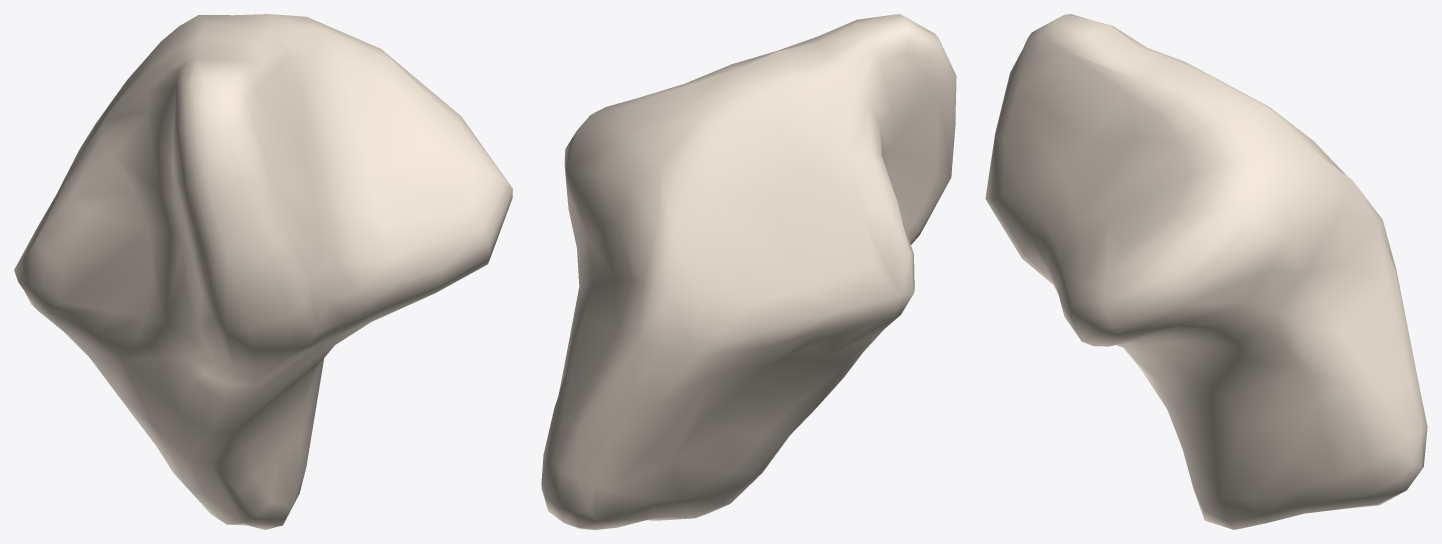
File: left_trapezium.glb
3 views of the same model, side by side, from view 1: azimuth 30°, elevation 25°; view 2: azimuth 150°, elevation 25°; view 3: azimuth 270°, elevation 25° (orthographic). The views are drawn at different scales.
Parts seen in each view (by area): view 1: Trapezium.r; view 2: Trapezium.r; view 3: Trapezium.r.
Boxes of the visible parts, left/top/right/bottom form: Trapezium.r: left=14, top=14, right=512, bottom=529; Trapezium.r: left=541, top=14, right=956, bottom=529; Trapezium.r: left=985, top=14, right=1427, bottom=529.
Bounding box in the file's own units: 0.0168 × 0.0205 × 0.0184.
